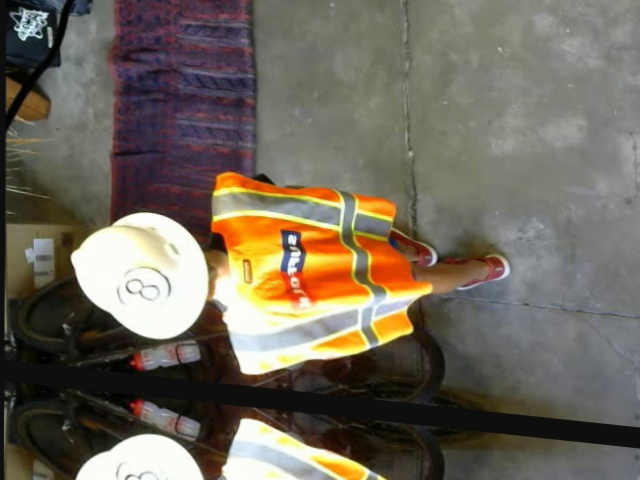eight: (113, 262, 170, 319)
